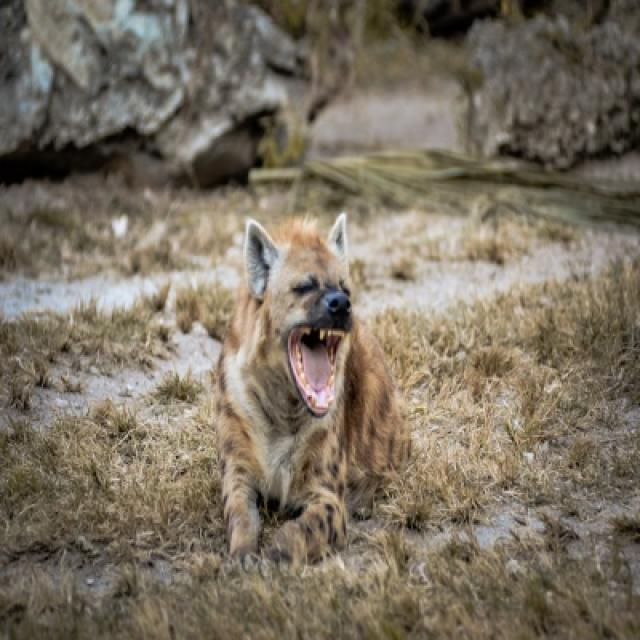hyena: (213, 218, 413, 570)
